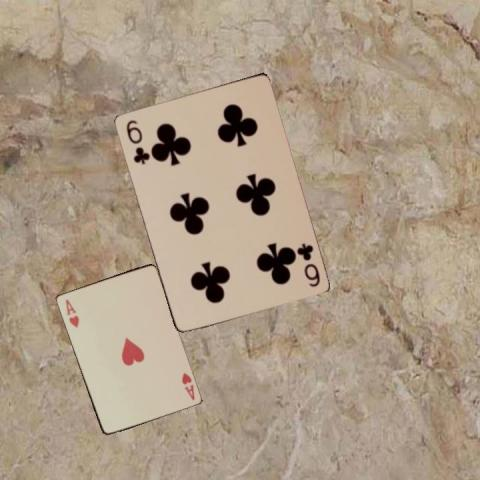6c: (294, 239, 322, 288), (123, 117, 150, 166)
Ah: (62, 296, 80, 329), (179, 370, 196, 402)
